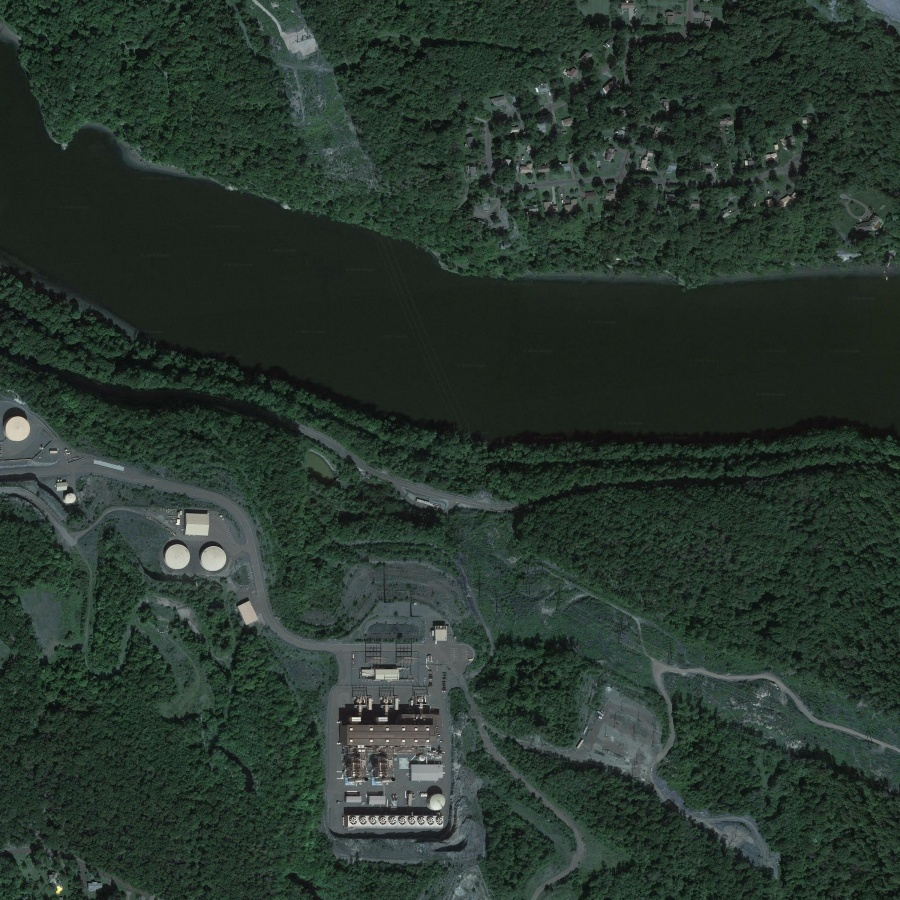PowerPlant: (330, 605, 476, 845)
